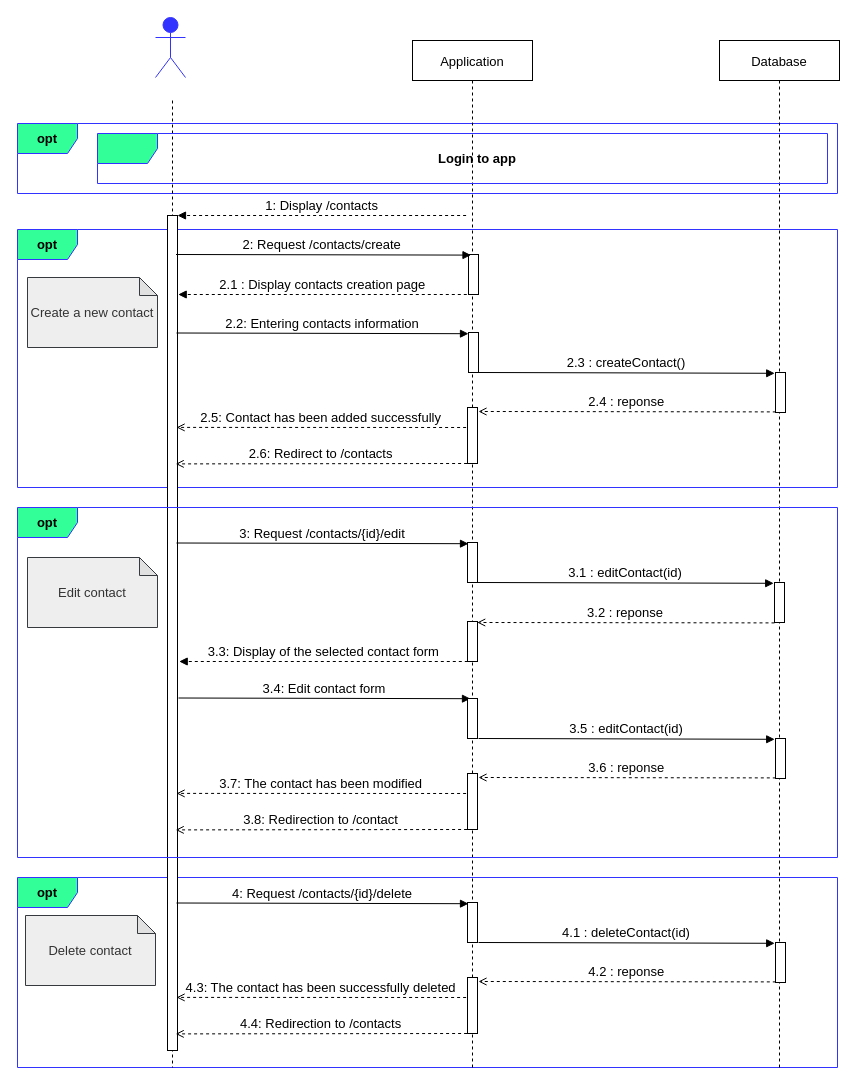
Image size: 857x1085. Some labels were removed from this diagram. The shapes that lost their labels are listed below. From the top down, each one's box as (x1, y1, x2, y2) in pixels, then its label:
(154, 16, 186, 78): :User
(96, 132, 828, 184): ref
